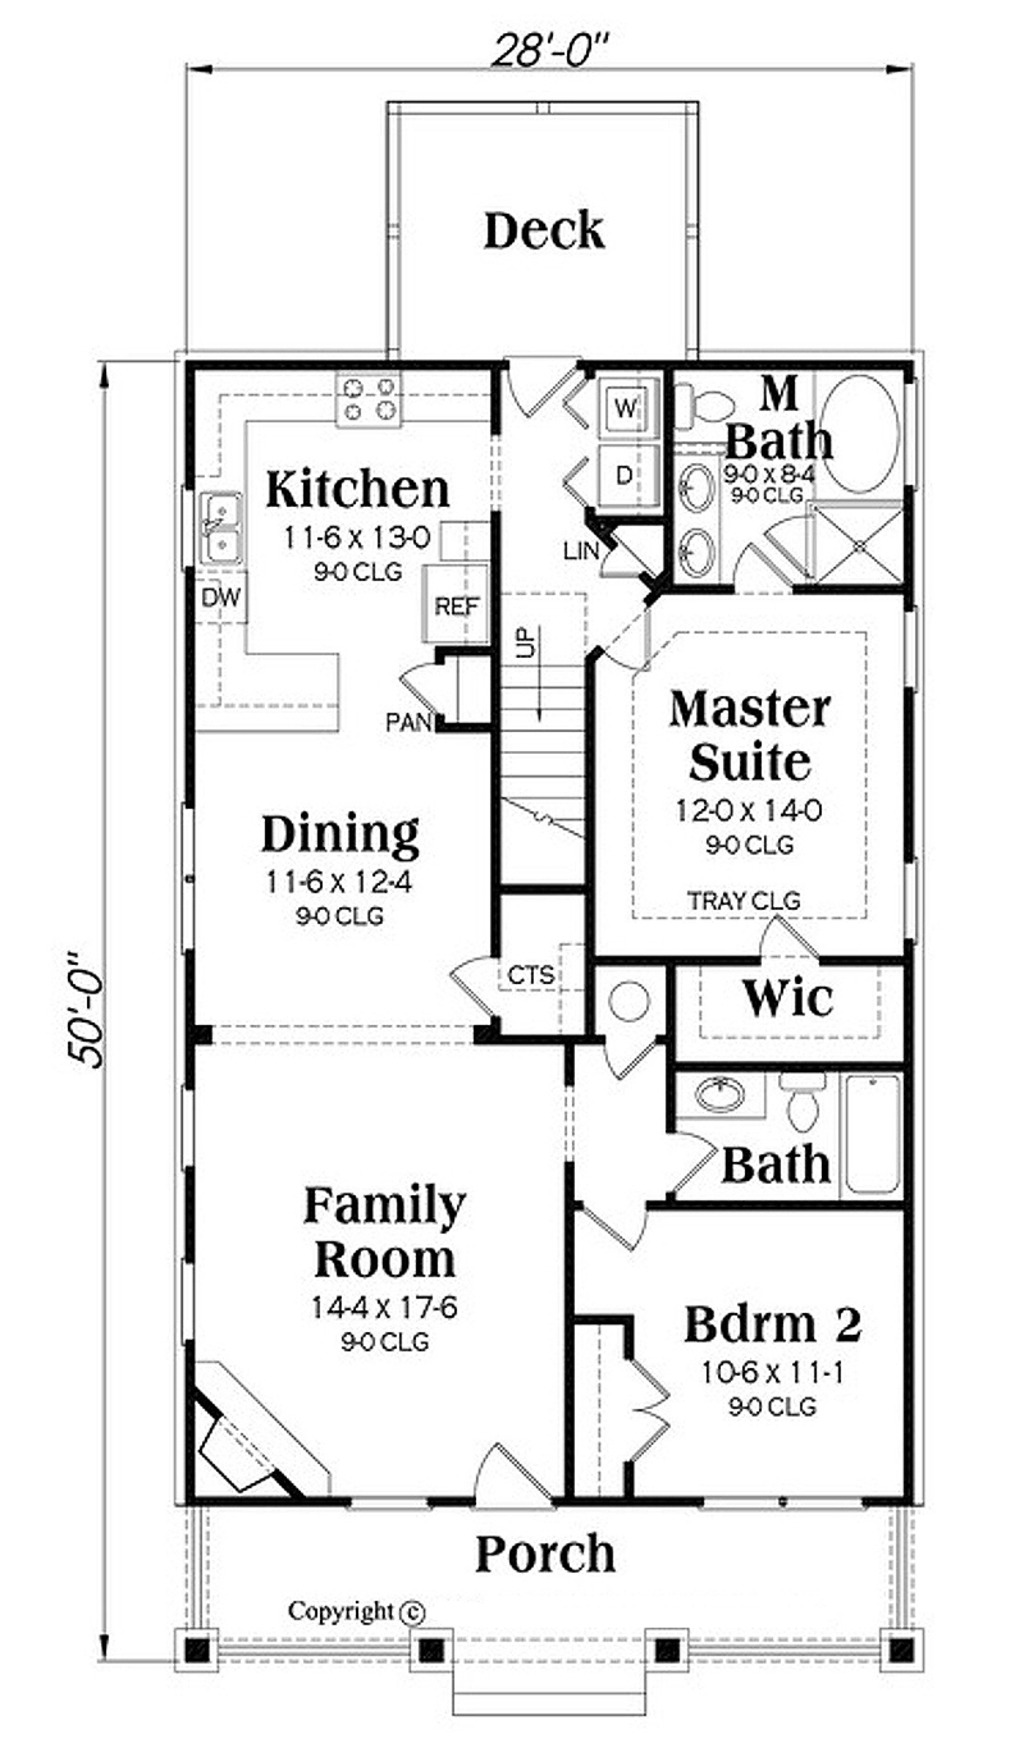door: (627, 1349, 694, 1466), (449, 944, 521, 1052), (486, 352, 588, 422), (475, 1439, 561, 1512), (599, 1028, 686, 1091), (571, 1193, 656, 1253), (602, 601, 667, 676), (653, 1125, 716, 1203), (716, 539, 791, 598), (767, 503, 813, 584), (759, 903, 818, 963)
large_sink: (667, 370, 748, 450), (764, 1055, 831, 1147)
small_sink: (667, 454, 727, 601), (675, 1069, 767, 1120)
stairs: (497, 579, 591, 896)
tub: (809, 355, 907, 501), (837, 1060, 909, 1209)
twin_sink: (191, 468, 258, 579)
window: (699, 1482, 891, 1533), (165, 798, 205, 967), (169, 1084, 207, 1179), (180, 1253, 202, 1355)
